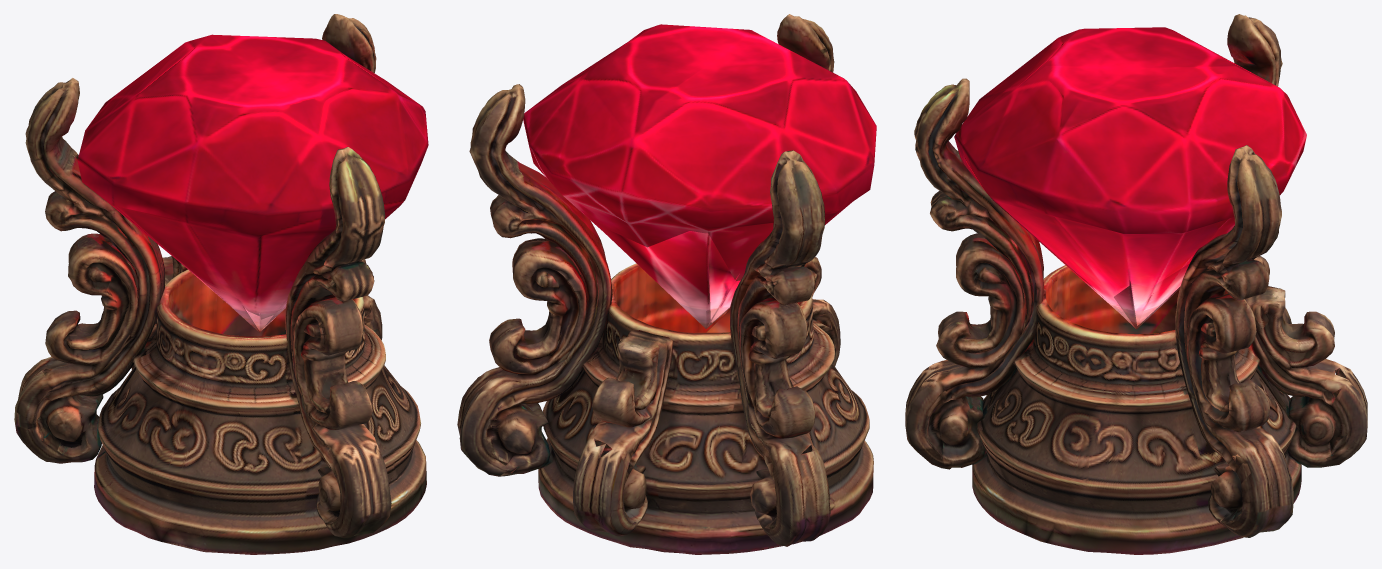
File: Meshy_AI_Crimson_Diamond_on_th_0721143632_texture.fbx
3 renders of one model, left to right at view 1: azimuth 30°, elevation 25°; view 2: azimuth 150°, elevation 25°; view 3: azimuth 270°, elevation 25°, orthographic.
Visible parts, largest first — view 1: Mesh_0; view 2: Mesh_0; view 3: Mesh_0.
Part boxes in pixels (box(x1,y1,x2,y2)): Mesh_0: box(14, 14, 428, 554); Mesh_0: box(457, 14, 876, 554); Mesh_0: box(905, 14, 1367, 554).
Bounding box in the file's own units: 91.99 × 99.8 × 100.
Materials: 1 (1 with a texture image).
